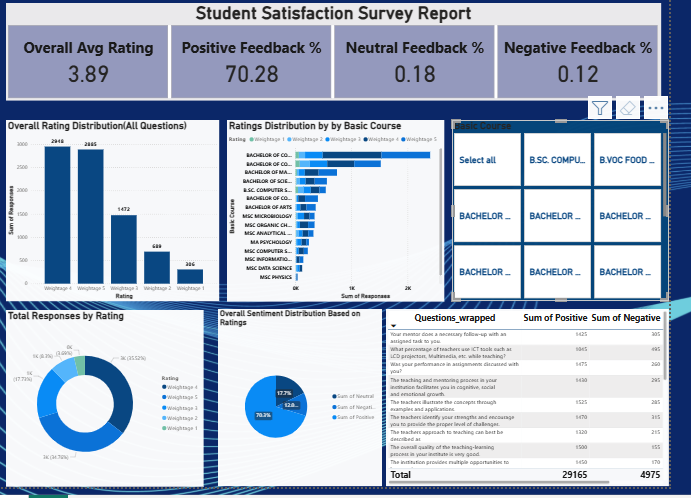

The page's visual inventory and layout, read from the dashboard file:
{"tool":"powerbi","page":{"name":"Student Satisfaction Dashboard","canvas":[2500,1200],"ordinal":0},"visuals":[{"type":"cardVisual","title":"Student Satisfaction Survey Report","fields":{"Data":["FinalData.Overall Avg Rating","FinalData.Positive Feedback %","FinalData.Neutral Feedback %","FinalData.Negative Feedback %"]},"box":[382.8,0,2117.2,290.8],"z":0},{"type":"clusteredColumnChart","title":"Overall Rating Distribution(All Questions)","fields":{"Category":["FinalData.Rating"],"Y":["Sum(FinalData.Responses)"]},"box":[502.1,305.4,661.1,435.1],"z":1000},{"type":"donutChart","title":"Total Responses by Rating","fields":{"Category":["FinalData.Rating"],"Y":["Sum(FinalData.Responses)"]},"box":[0,767.8,707.1,433.1],"z":2000},{"type":"pieChart","title":"Overall Sentiment Distribution Based on Ratings","fields":{"Y":["Sum(FinalData.Neutral)","Sum(FinalData.Negative)","Sum(FinalData.Positive)"]},"box":[721.8,767.8,763.6,433.1],"z":3000},{"type":"barChart","title":"Ratings Distribution by by Basic Course ","fields":{"Category":["FinalData.Basic Course"],"Series":["FinalData.Rating"],"Y":["Sum(FinalData.Responses)"]},"box":[1182,305.4,604.6,435.1],"z":4000},{"type":"advancedSlicerVisual","fields":{"Values":["FinalData.Basic Course"]},"box":[1803.3,305.4,696.7,435.1],"z":5000},{"type":"tableEx","fields":{"Values":["FinalData.Questions_wrapped","Sum(FinalData.Positive)","Sum(FinalData.Negative)","Sum(FinalData.Neutral)"]},"box":[1495.1,768.3,1004.9,431.7],"z":6000},{"type":"textbox","box":[0,305.4,474.9,435.1],"z":7000},{"type":"image","box":[0,0,368.3,290.2],"z":8000},{"type":"textbox","box":[73.2,200,243.9,58.5],"z":9000}]}

Visuals, with their boxes on the page's 2500x1200 design canvas (x1, y1, x2, y2). These are canvas units, not pixel positions in the 691x498 screenshot, which may show the page scaled, cropped or inside an application window:
"Student Satisfaction Survey Report" cardVisual: [383, 0, 2500, 291]
"Overall Rating Distribution(All Questions)" clusteredColumnChart: [502, 305, 1163, 740]
"Total Responses by Rating" donutChart: [0, 768, 707, 1201]
"Overall Sentiment Distribution Based on Ratings" pieChart: [722, 768, 1485, 1201]
"Ratings Distribution by by Basic Course " barChart: [1182, 305, 1787, 740]
advancedSlicerVisual - FinalData.Basic Course: [1803, 305, 2500, 740]
tableEx - FinalData.Questions_wrapped x Sum(FinalData.Positive): [1495, 768, 2500, 1200]
textbox: [0, 305, 475, 740]
image: [0, 0, 368, 290]
textbox: [73, 200, 317, 258]
